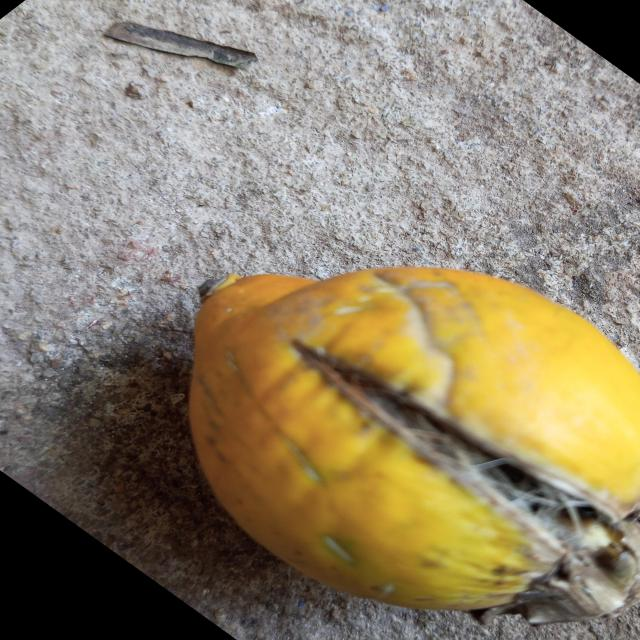damaged: (190, 268, 640, 624)
